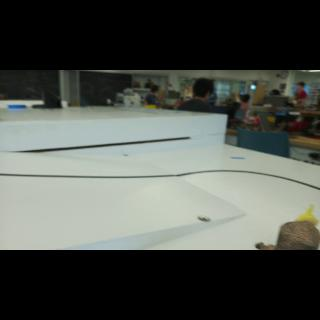teletubby: (295, 204, 318, 226)
